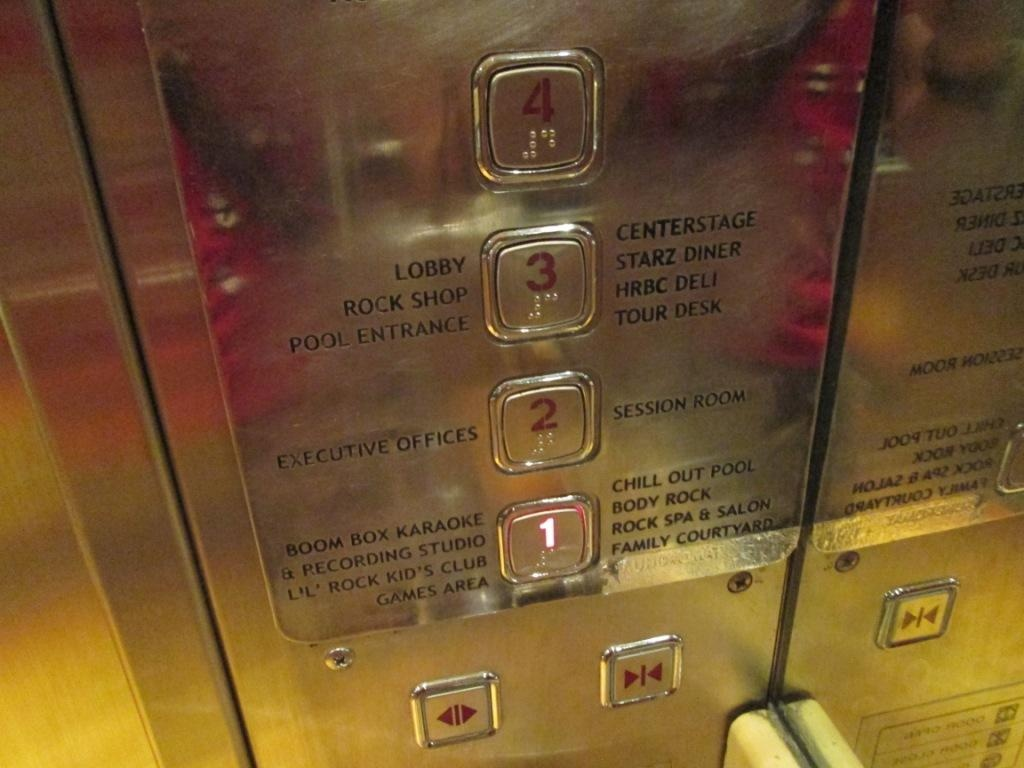1: (492, 487, 603, 587)
2: (481, 363, 606, 479)
3: (471, 218, 610, 349)
4: (463, 43, 612, 195)
close: (594, 628, 687, 714), (871, 570, 960, 658)
open: (404, 666, 505, 756)
